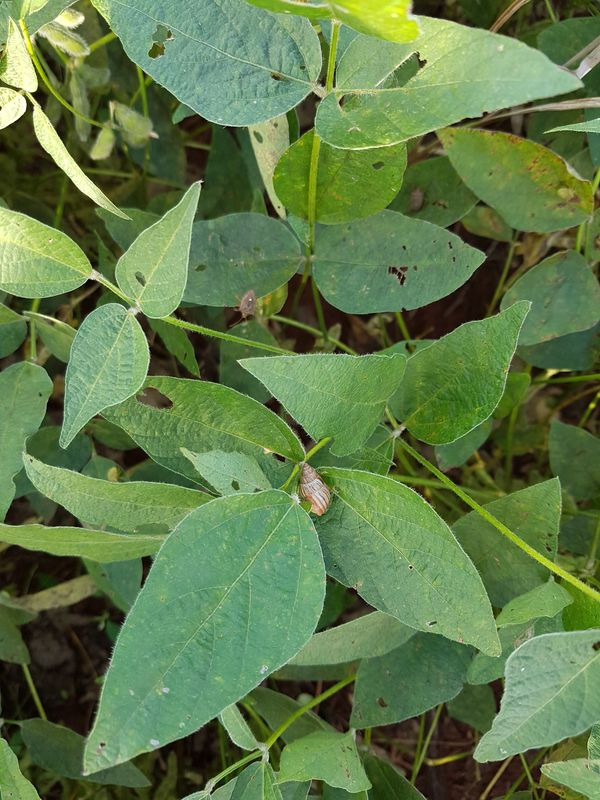Euschistus_heros_adulto: (227, 285, 265, 328), (406, 184, 430, 214)
Euschistus_heros_ninfa: (554, 183, 579, 206)
Gastropoda: (282, 456, 344, 525)
